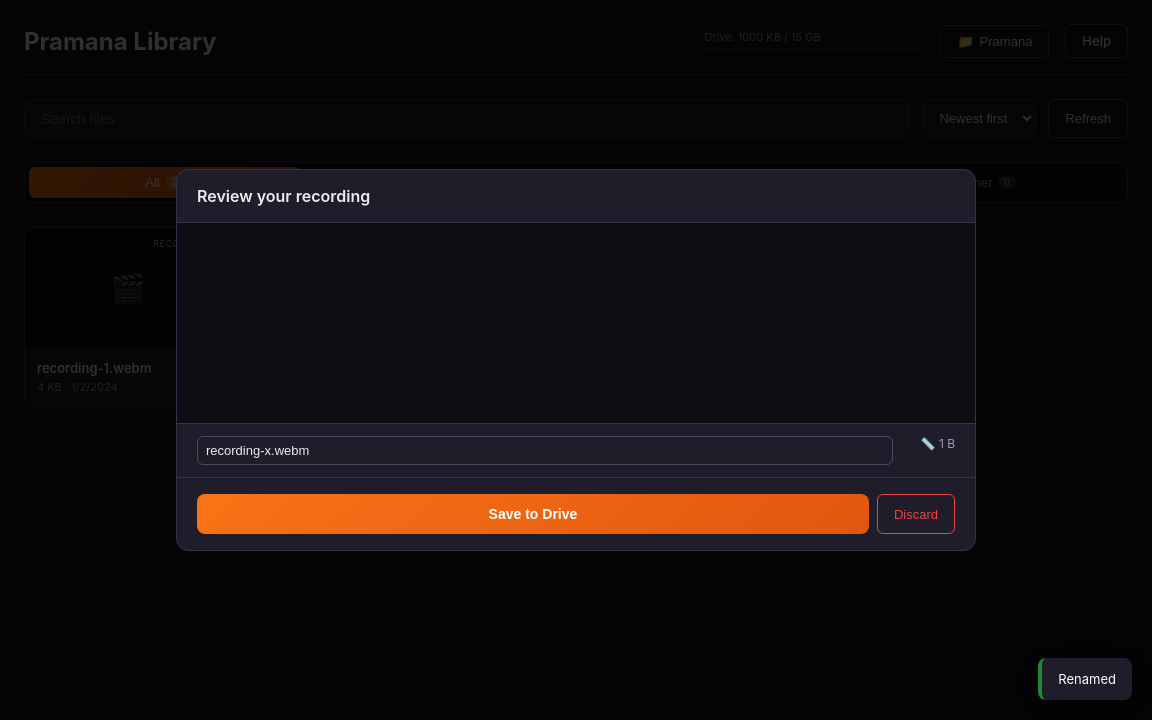
it: Dashboard App › offers a finished recording for review and uploads it
Expected: the heading "Review your recording" is shown, left=197, top=186, right=370, bottom=206
What coordinates should you click on to do the following:
click the button "Save to Drive"
I would click on:
 (533, 514)
Its box is left=197, top=494, right=869, bottom=534.
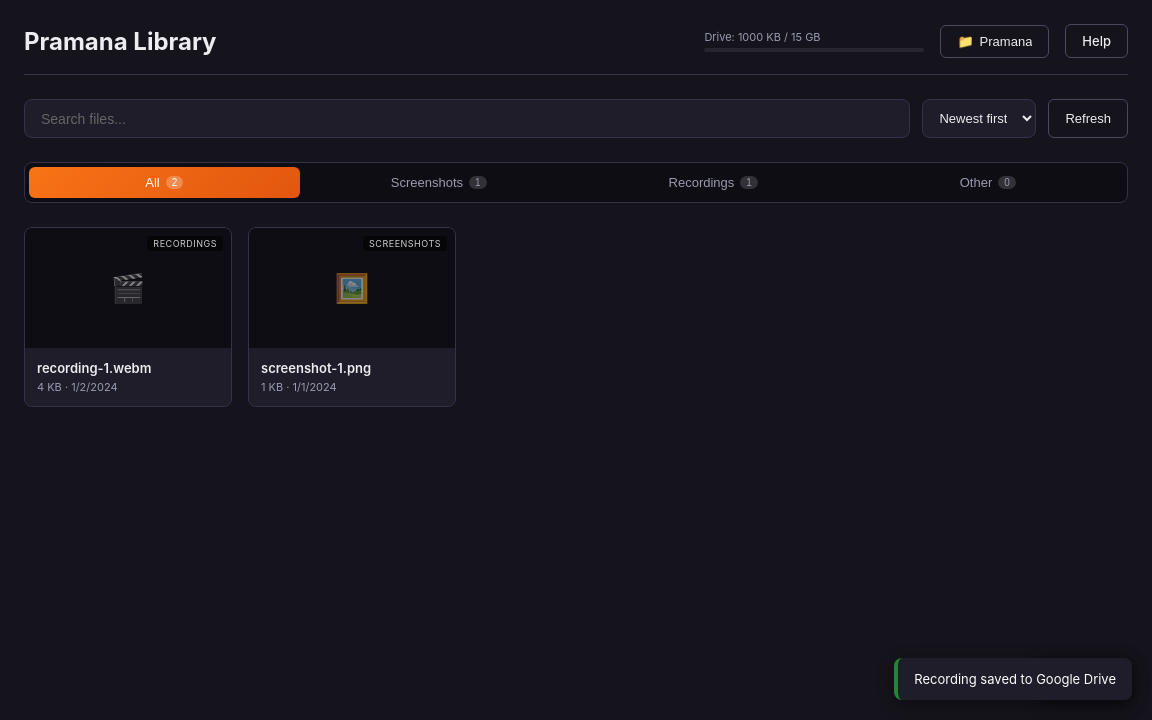
Expected: the heading "Review your recording" is gone
